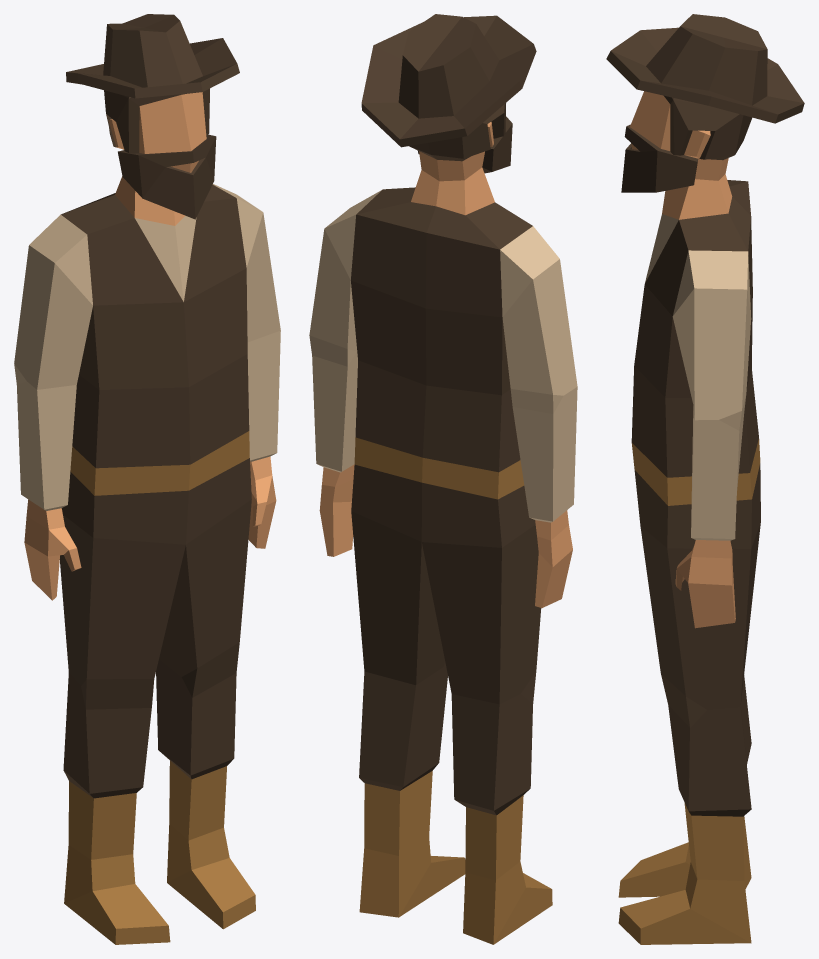
Rendered from man-cowboy.glb.
3 renders of one model, left to right at view 1: azimuth 30°, elevation 25°; view 2: azimuth 150°, elevation 25°; view 3: azimuth 270°, elevation 25°, orthographic.
Visible parts, largest first — view 1: man-cowboy; view 2: man-cowboy; view 3: man-cowboy.
Part boxes in pixels (x1,y1,x2,y2): man-cowboy: (14, 14, 280, 944); man-cowboy: (309, 14, 577, 944); man-cowboy: (606, 14, 804, 944).
Size of the model in its own units: 0.5438 by 1.88 by 0.3818.
Materials: 1 (1 with a texture image).
